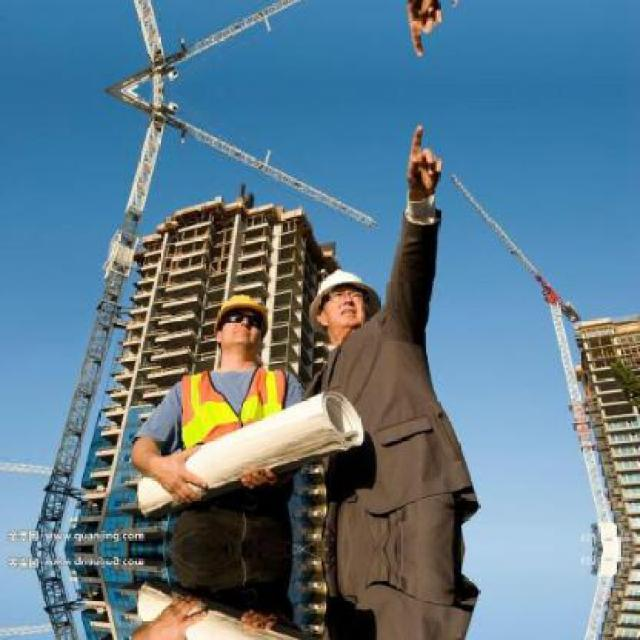helmet: (307, 264, 382, 336), (211, 291, 269, 358)
